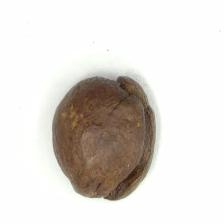NG: (104, 76, 156, 201)
